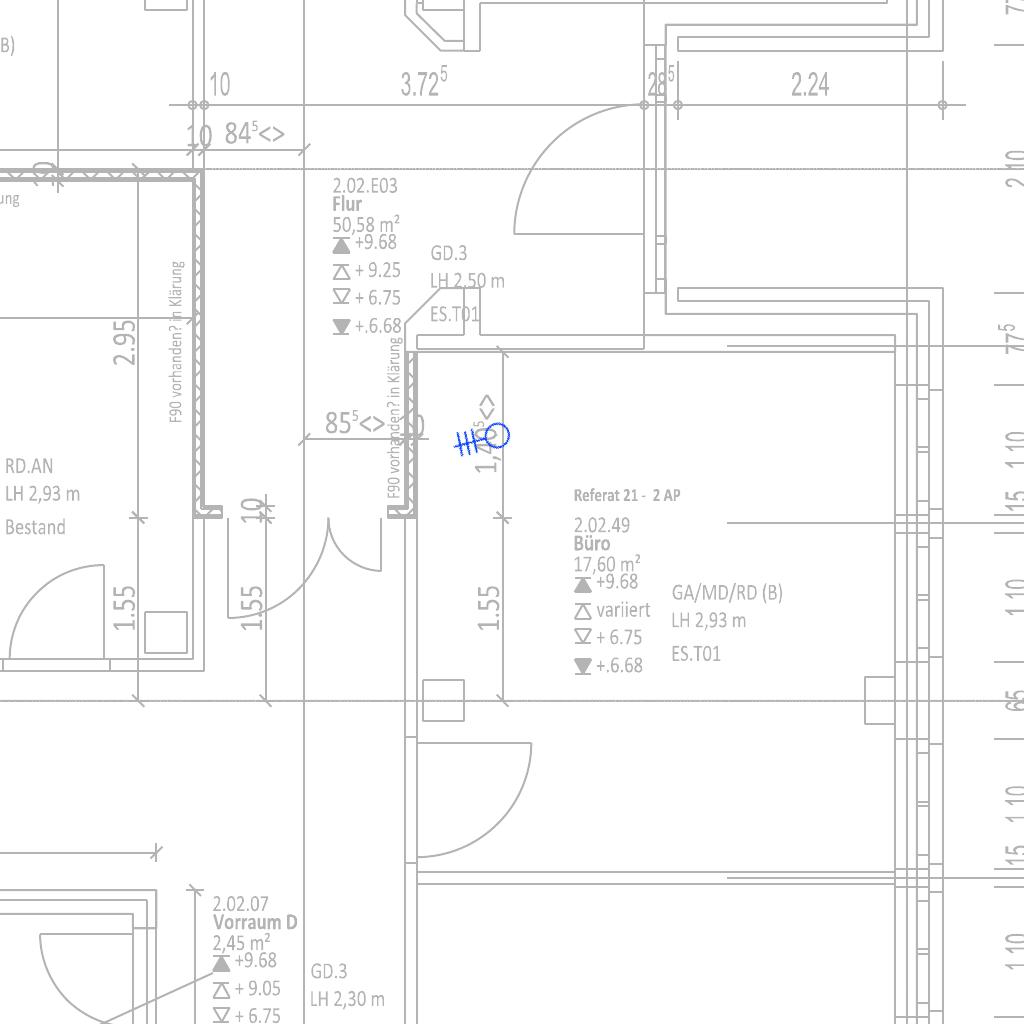Elektroanschluss_allgemein_400V_Geraeteanschlussdose_400V: (443, 405, 523, 483)
